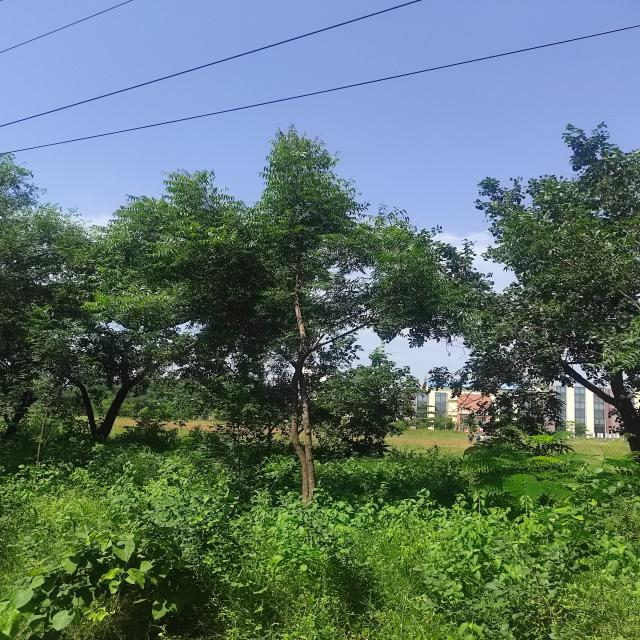Devakanchan tree: (503, 199, 616, 421)
Neem Tree: (154, 185, 408, 473)
